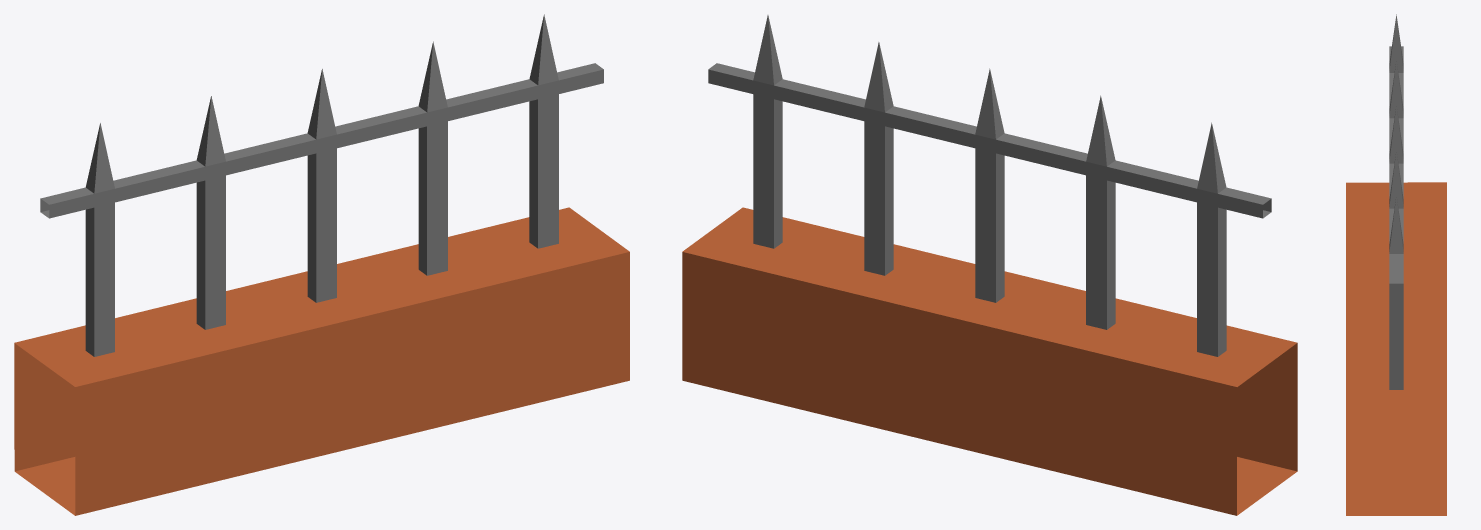
Rendered from wall.fbx.
3 views of the same model, side by side, from view 1: azimuth 30°, elevation 25°; view 2: azimuth 150°, elevation 25°; view 3: azimuth 270°, elevation 25° (orthographic). The views are drawn at different scales.
Visible parts, largest first — view 1: Wall; view 2: Wall; view 3: Wall.
Part boxes in pixels (x1,y1,x2,y2): Wall: (14, 14, 629, 515); Wall: (682, 15, 1297, 515); Wall: (1346, 14, 1446, 515).
Size of the model in its own units: 400 by 247 by 105.
